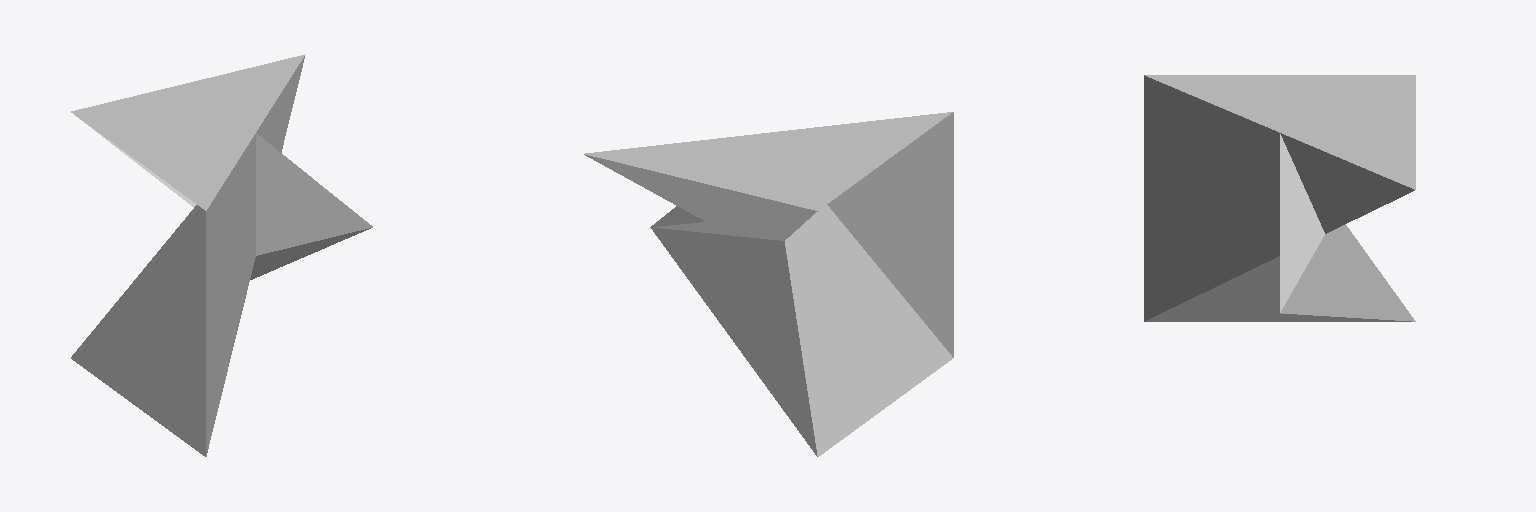
The model's file is stencil.obj.
The picture shows the model from 3 angles: view 1: azimuth 30°, elevation 25°; view 2: azimuth 150°, elevation 25°; view 3: azimuth 270°, elevation 25°; orthographic projection.
Bounding box in the file's own units: 0.2 × 0.2 × 0.2.